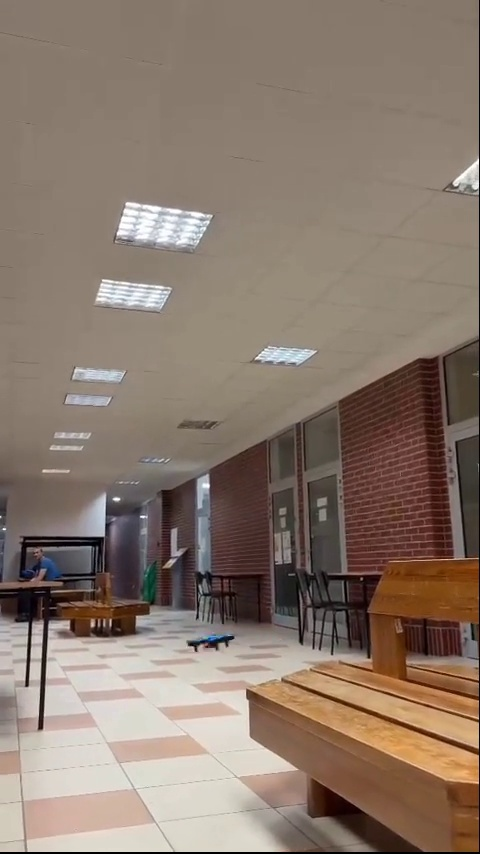drone: (183, 629, 236, 655)
no vest: (23, 538, 62, 607)
